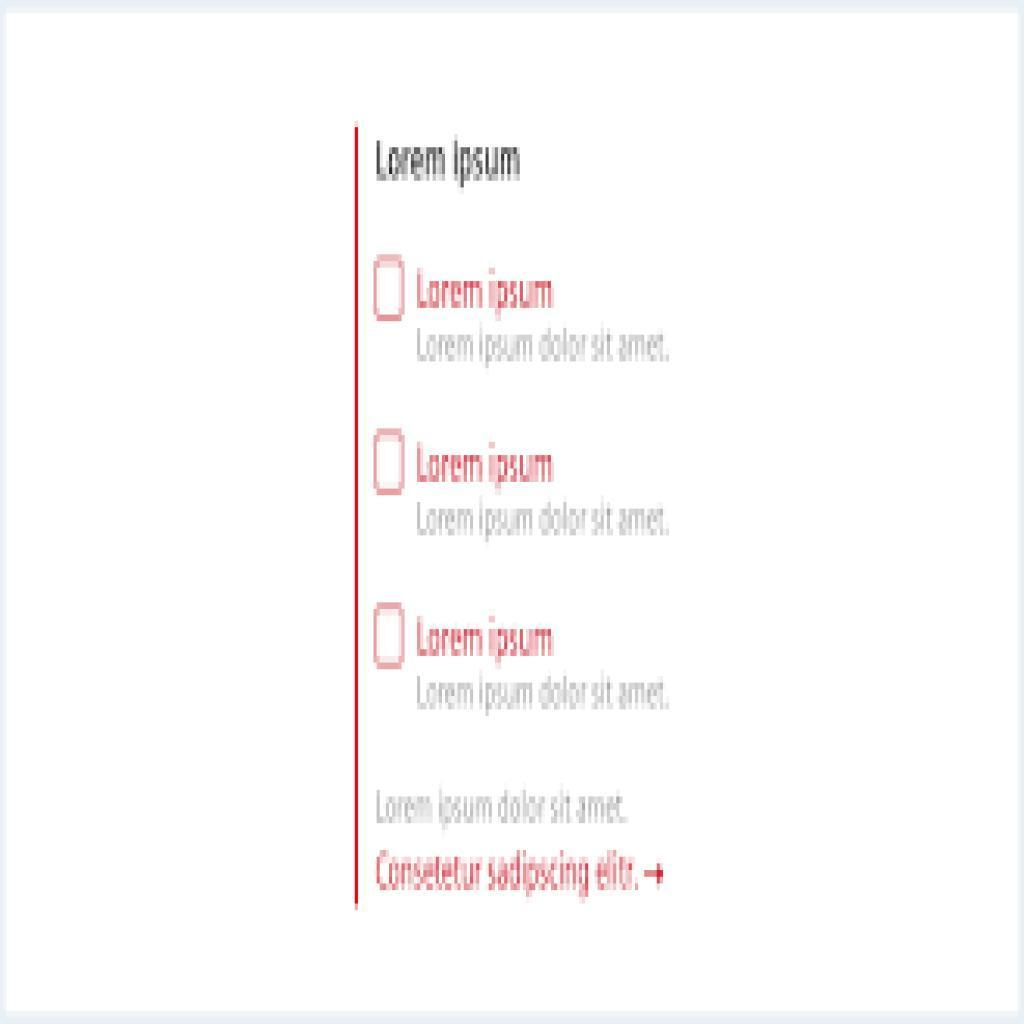checkbox: (375, 256, 407, 321), (375, 605, 406, 666), (376, 432, 404, 493)
